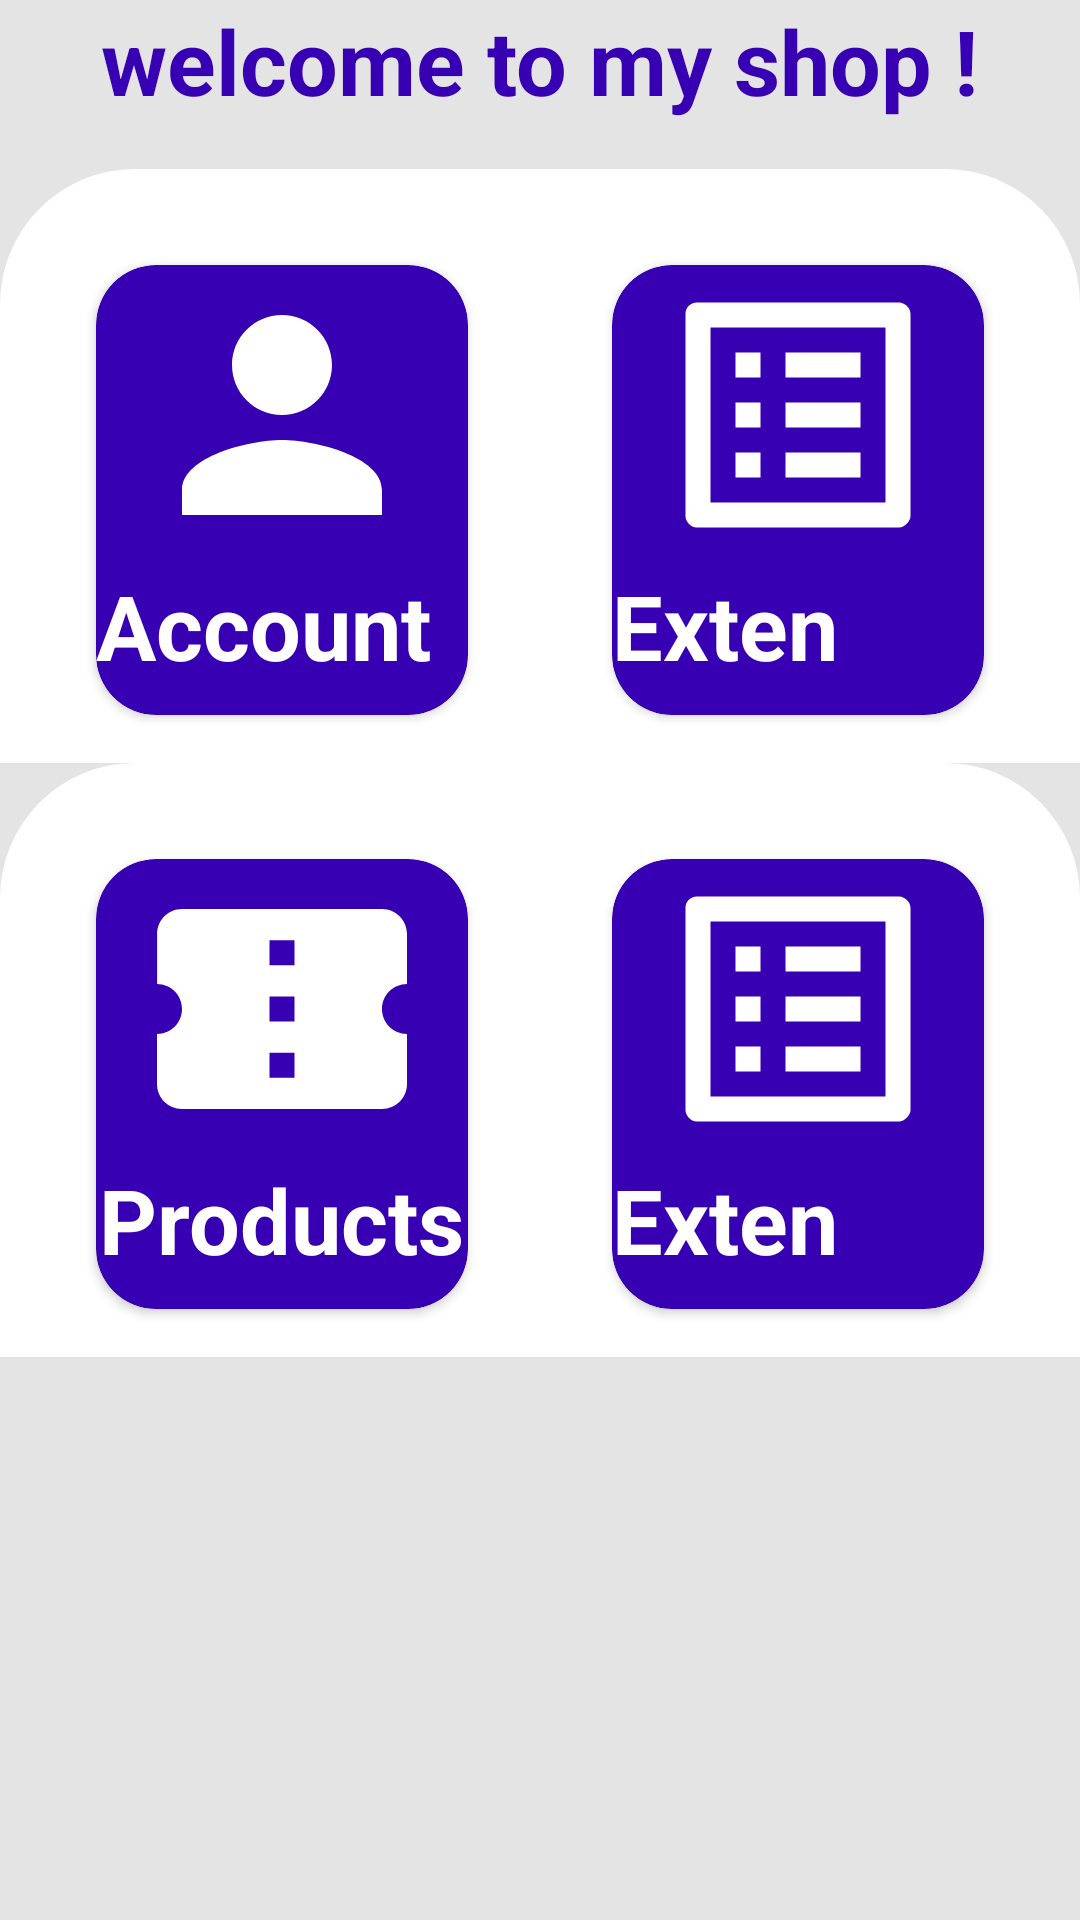

Locate icon controls on the screen. Image size 1080×1920, boxes as BBox(x1, y1, x2, y2).
list: BBox(685, 302, 911, 528), BBox(685, 896, 911, 1122)
person: BBox(182, 315, 382, 515)
